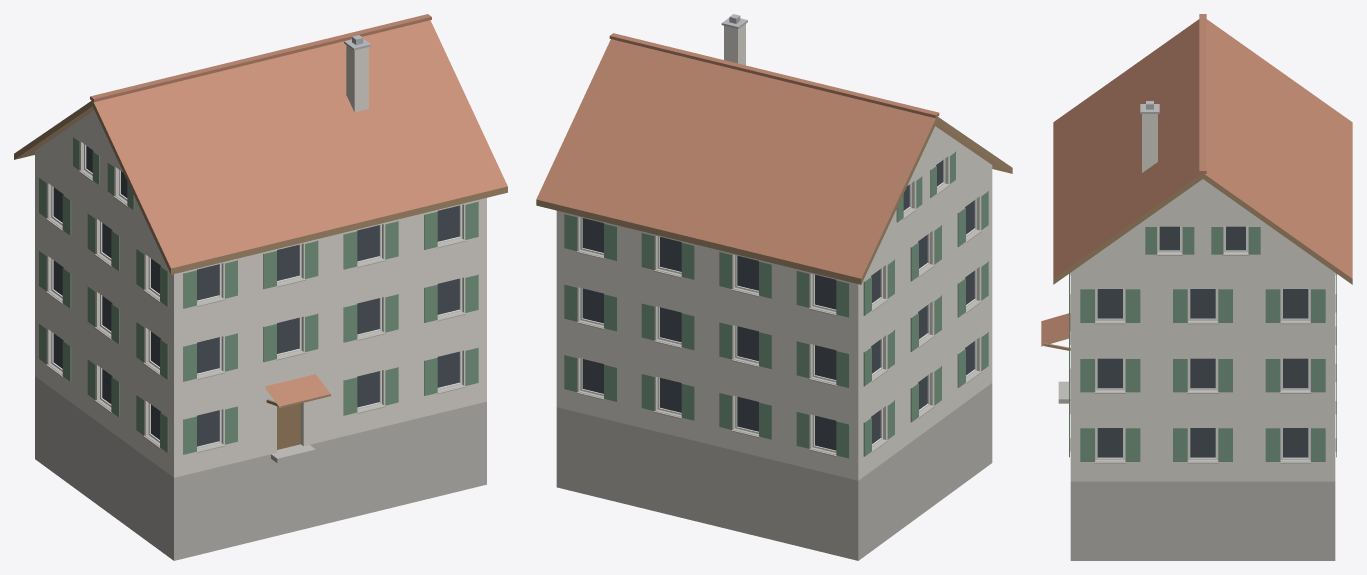
The model's file is house_gable_3_m.glb.
The picture shows the model from 3 angles, left to right: view 1: azimuth 30°, elevation 25°; view 2: azimuth 150°, elevation 25°; view 3: azimuth 270°, elevation 25°; orthographic projection. The views are drawn at different scales.
Visible parts, largest first — view 1: house_gable_3_m; view 2: house_gable_3_m; view 3: house_gable_3_m.
Part boxes in pixels (left/top/right/bottom): house_gable_3_m: left=14, top=14, right=507, bottom=560; house_gable_3_m: left=536, top=14, right=1012, bottom=560; house_gable_3_m: left=1041, top=14, right=1352, bottom=560.
Bounding box in the file's own units: 14.04 × 17.41 × 11.75.
